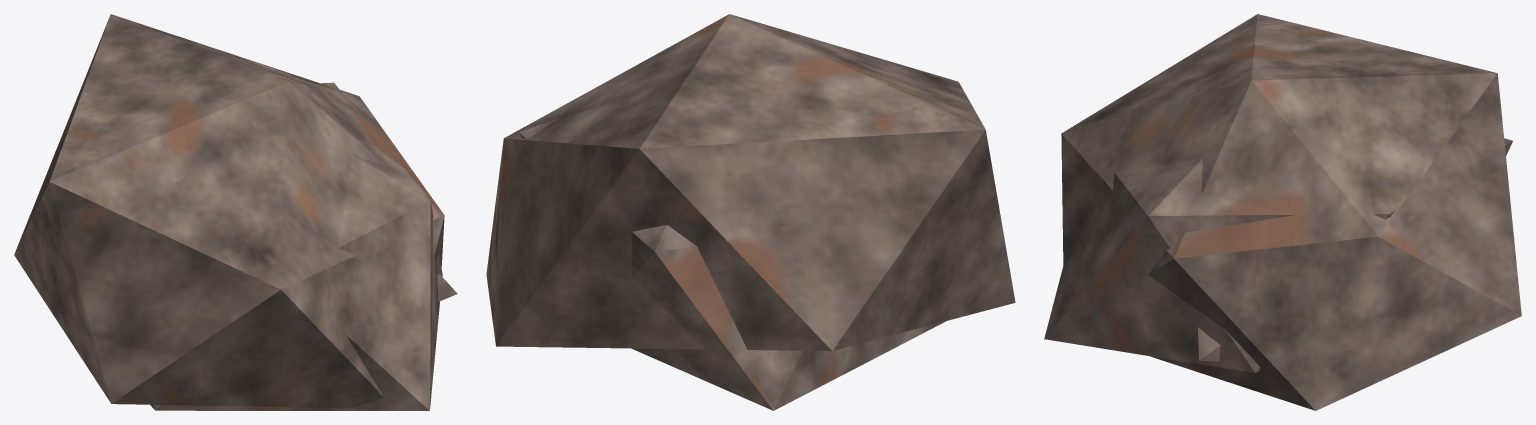
File: ore_chunk.glb
The picture shows the model from 3 angles, left to right: view 1: azimuth 30°, elevation 25°; view 2: azimuth 150°, elevation 25°; view 3: azimuth 270°, elevation 25°; orthographic projection. The views are drawn at different scales.
Visible parts, largest first — view 1: OreChunkA_OreRock, OreChunkC_OreRock; view 2: OreChunkA_OreRock, OreChunkC_OreRock; view 3: OreChunkA_OreRock, OreChunkC_OreRock, OreChunkB_OreRock.
Part boxes in pixels (left/top/right/bottom): OreChunkA_OreRock: left=14, top=14, right=444, bottom=408; OreChunkC_OreRock: left=150, top=82, right=442, bottom=410; OreChunkA_OreRock: left=486, top=14, right=1015, bottom=351; OreChunkC_OreRock: left=519, top=117, right=946, bottom=410; OreChunkA_OreRock: left=1061, top=14, right=1521, bottom=410; OreChunkC_OreRock: left=1044, top=138, right=1512, bottom=373; OreChunkB_OreRock: left=1187, top=327, right=1220, bottom=361.
Bounding box in the file's own units: 1.06 × 0.614 × 1.09.
Materials: 1 (1 with a texture image).
